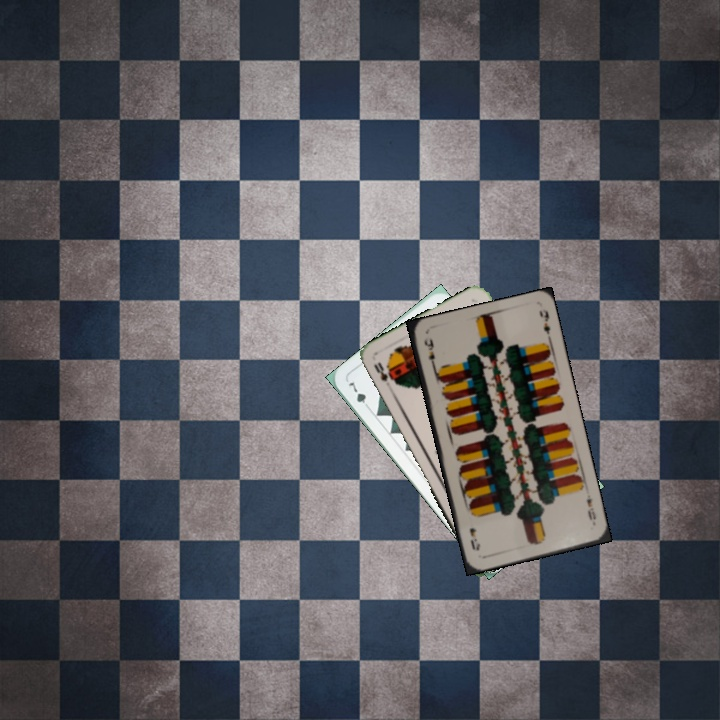E9: (420, 333, 439, 372), (582, 494, 599, 523)
G7: (344, 378, 373, 413)
SO: (370, 358, 395, 393)
